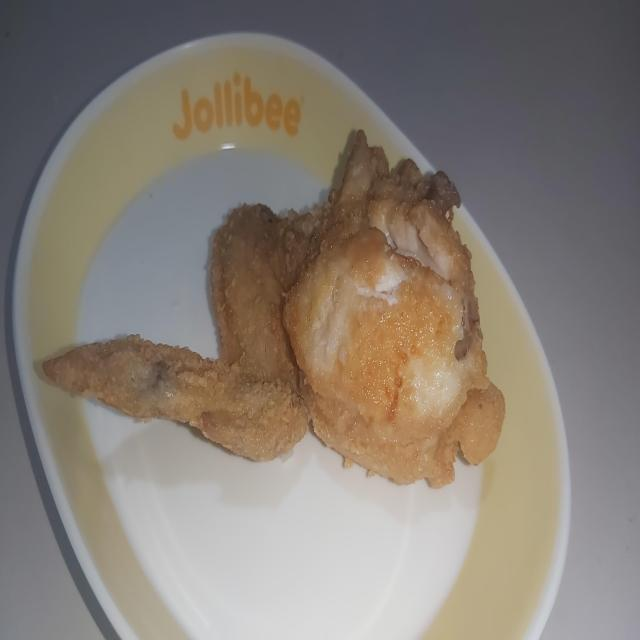Chicken -Fried Chicken-: (43, 148, 616, 522)
